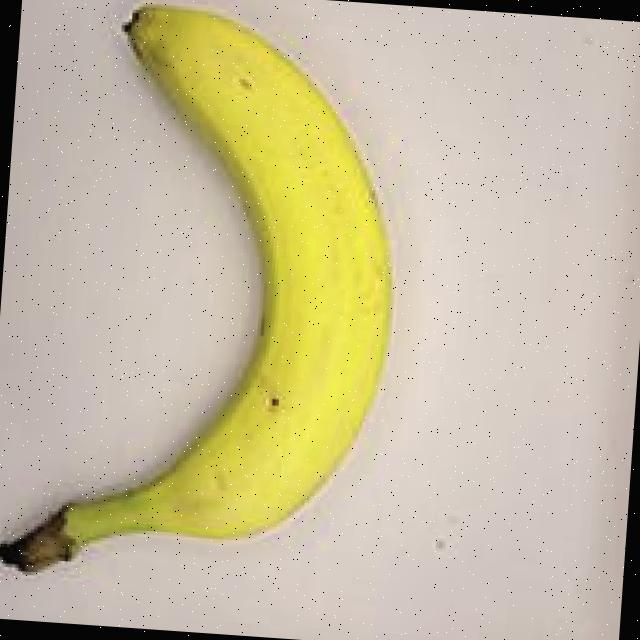Ripe: (0, 0, 453, 637)
